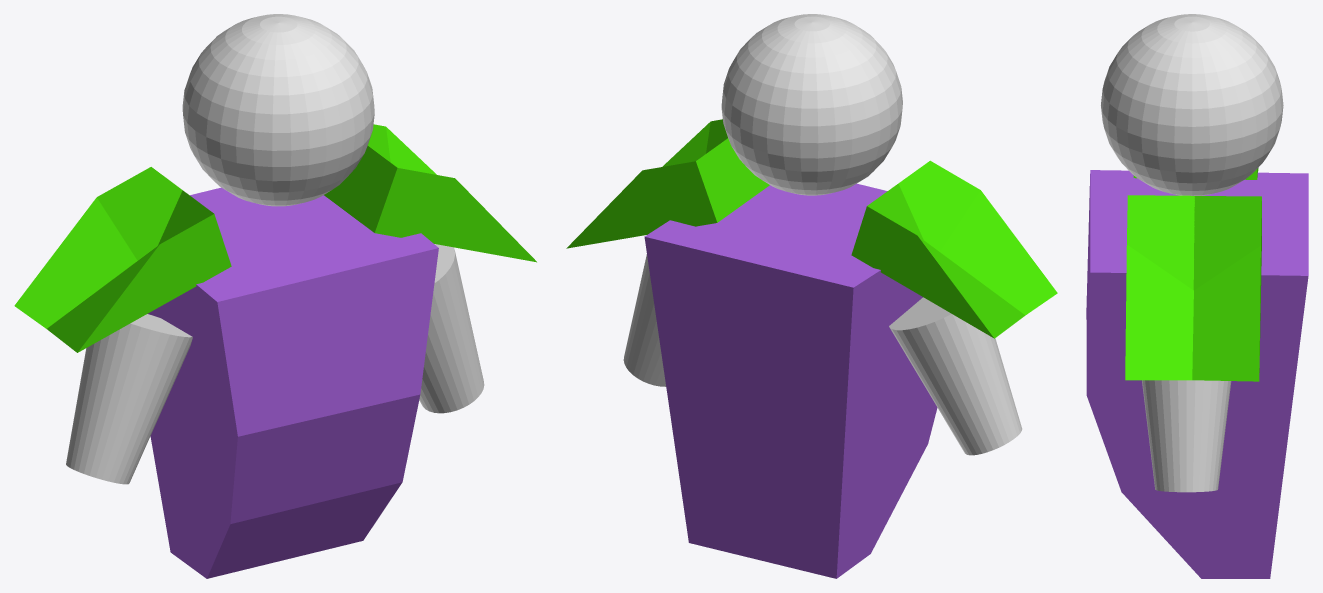
The model's file is dumbguyunity.fbx.
3 views of the same model, side by side, from view 1: azimuth 30°, elevation 25°; view 2: azimuth 150°, elevation 25°; view 3: azimuth 270°, elevation 25° (orthographic). The views are drawn at different scales.
Parts seen in each view (by area): view 1: Cube, Sphere, Cube.001, Cylinder.001, Cube.002, Cylinder; view 2: Cube, Sphere, Cube.001, Cylinder.001, Cube.002, Cylinder; view 3: Cube, Sphere, Cube.002, Cylinder.
Part boxes in pixels (left/top/right/bottom): Cube: left=147, top=187, right=438, bottom=578; Sphere: left=182, top=14, right=374, bottom=206; Cube.001: left=14, top=167, right=231, bottom=352; Cylinder.001: left=66, top=314, right=192, bottom=484; Cube.002: left=324, top=124, right=536, bottom=262; Cylinder: left=419, top=244, right=484, bottom=413; Cube: left=644, top=183, right=937, bottom=578; Sphere: left=721, top=14, right=902, bottom=195; Cube.001: left=851, top=160, right=1057, bottom=338; Cylinder.001: left=889, top=297, right=1022, bottom=455; Cube.002: left=566, top=119, right=769, bottom=248; Cylinder: left=623, top=254, right=666, bottom=386; Cube: left=1086, top=170, right=1308, bottom=578; Sphere: left=1101, top=14, right=1283, bottom=195; Cube.002: left=1125, top=195, right=1261, bottom=381; Cylinder: left=1142, top=380, right=1231, bottom=492.
Size of the model in its own units: 110 by 126 by 49.04.
